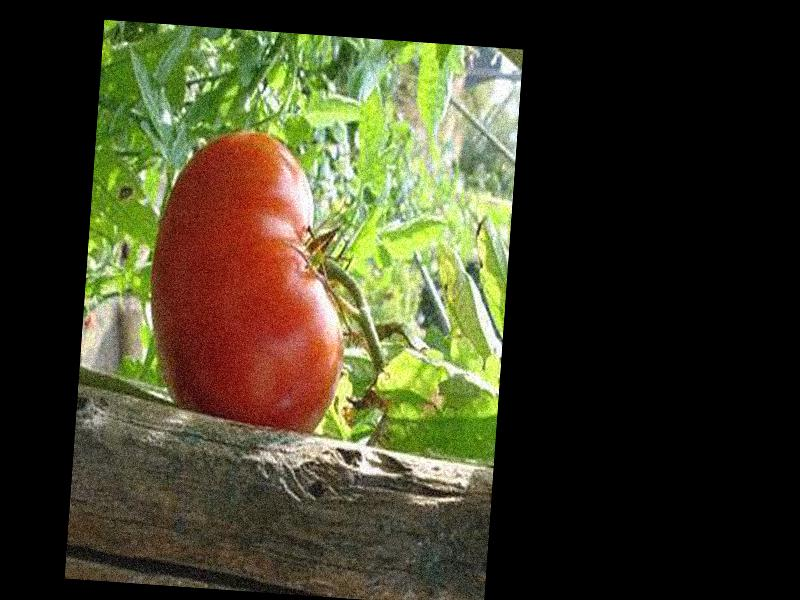Tomato: (143, 124, 358, 439)
